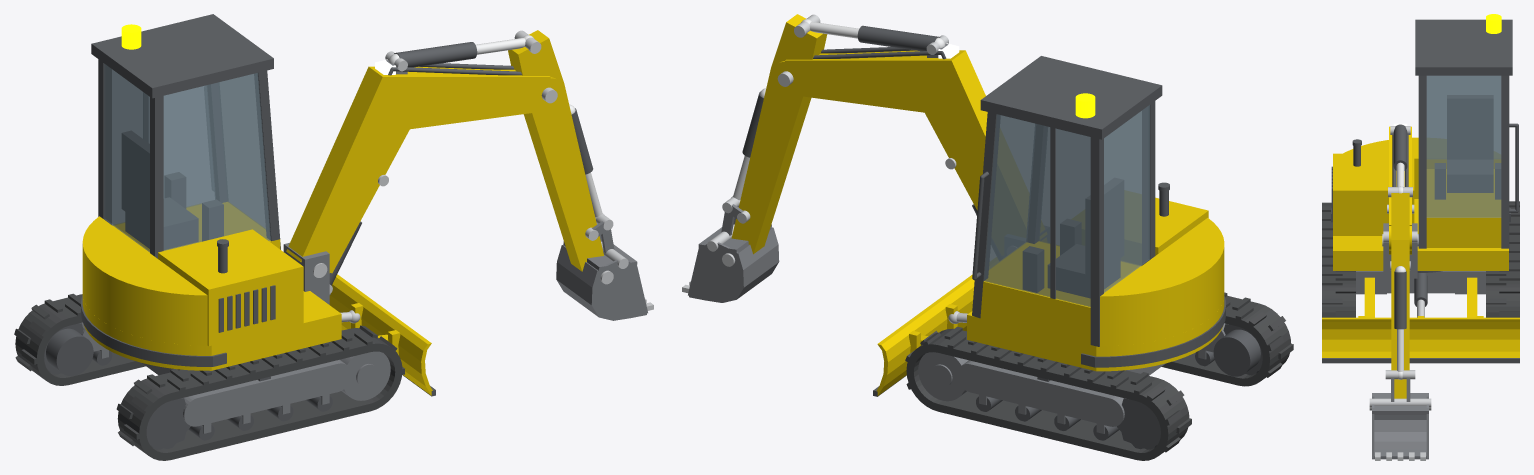
Rendered from mini-excavator-cad.glb.
3 views of the same model, side by side, from view 1: azimuth 30°, elevation 25°; view 2: azimuth 150°, elevation 25°; view 3: azimuth 270°, elevation 25° (orthographic). The views are drawn at different scales.
Parts seen in each view (by area): view 1: blade, sprocket_L, cab_glass, track_L, track_frame_L, blade_ram, ram_rods; view 2: blade, sprocket_L, cab_glass, track_L, track_frame_L, blade_ram, ram_rods; view 3: blade, sprocket_L, cab_glass, track_frame_L, track_L, blade_ram, ram_rods, beacon.
Boxes of the visible parts, x1=… form: blade: x1=82, y1=30, x2=603, y2=395; sprocket_L: x1=44, y1=14, x2=593, y2=449; cab_glass: x1=104, y1=63, x2=270, y2=252; track_L: x1=14, y1=293, x2=404, y2=460; track_frame_L: x1=81, y1=60, x2=647, y2=433; blade_ram: x1=313, y1=30, x2=653, y2=323; ram_rods: x1=389, y1=35, x2=604, y2=224; blade: x1=731, y1=14, x2=1224, y2=395; sprocket_L: x1=742, y1=25, x2=1262, y2=449; cab_glass: x1=984, y1=105, x2=1149, y2=306; track_L: x1=905, y1=292, x2=1293, y2=460; track_frame_L: x1=688, y1=44, x2=1225, y2=433; blade_ram: x1=682, y1=14, x2=967, y2=323; ram_rods: x1=731, y1=19, x2=945, y2=207; blade: x1=1322, y1=126, x2=1519, y2=398; sprocket_L: x1=1322, y1=19, x2=1519, y2=363; cab_glass: x1=1426, y1=75, x2=1501, y2=217; track_frame_L: x1=1356, y1=223, x2=1485, y2=459; track_L: x1=1322, y1=201, x2=1519, y2=317; blade_ram: x1=1369, y1=126, x2=1431, y2=460; ram_rods: x1=1395, y1=124, x2=1405, y2=379; beacon: x1=1486, y1=14, x2=1501, y2=33.
Size of the model in its own units: 4.47 by 2.62 by 1.74.
